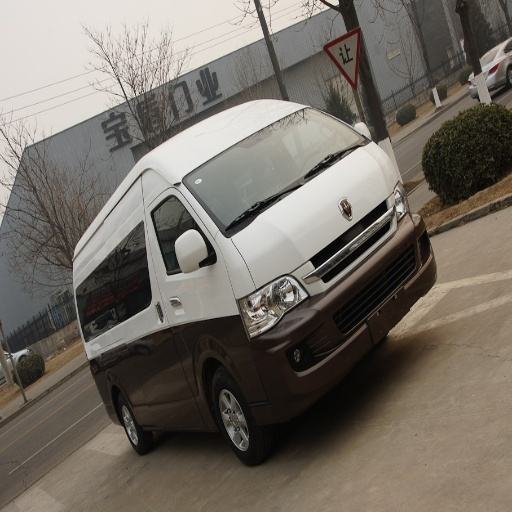front_bumper: (226, 160, 431, 426)
front_right_light: (244, 279, 307, 331)
